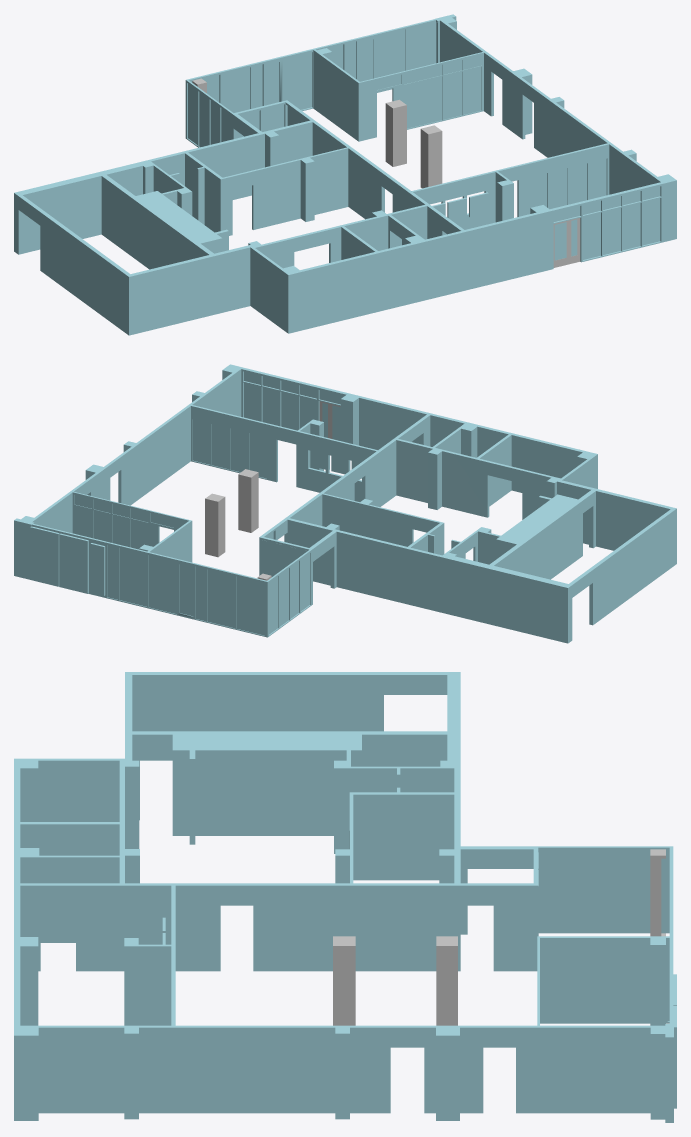
The model's file is df_glb.glb.
The picture shows the model from 3 angles, top to bottom: view 1: azimuth 30°, elevation 25°; view 2: azimuth 150°, elevation 25°; view 3: azimuth 270°, elevation 25°; orthographic projection. The views are drawn at different scales.
Parts seen in each view (by area): view 1: Body101, Body98, kolonna, Body100, Body93, Body94, Body76, Body74, Body75, Body58, Body55, Body53 (+6 smaller); view 2: Body101, Body98, Body93, Body94, Body100, kolonna, Body68, Body67, Body69, Body66, Body53, Body55 (+6 smaller); view 3: Body101, Body99, Body100, kolonna, Body12.
Part boxes in pixels (bbox=[...]): Body101: bbox=[14, 14, 676, 335]; Body98: bbox=[191, 41, 355, 112]; kolonna: bbox=[385, 99, 406, 166]; Body100: bbox=[420, 125, 442, 188]; Body93: bbox=[406, 22, 436, 70]; Body94: bbox=[376, 29, 405, 77]; Body76: bbox=[423, 76, 442, 124]; Body74: bbox=[463, 67, 481, 114]; Body75: bbox=[443, 71, 461, 119]; Body58: bbox=[642, 198, 660, 245]; Body55: bbox=[622, 203, 640, 250]; Body53: bbox=[603, 208, 620, 254]; Body101: bbox=[14, 364, 676, 643]; Body98: bbox=[107, 545, 264, 635]; Body93: bbox=[30, 526, 59, 586]; Body94: bbox=[59, 533, 88, 593]; Body100: bbox=[238, 469, 258, 532]; kolonna: bbox=[205, 493, 225, 557]; Body68: bbox=[211, 424, 229, 469]; Body67: bbox=[193, 419, 210, 464]; Body69: bbox=[230, 428, 247, 472]; Body66: bbox=[249, 433, 266, 478]; Body53: bbox=[281, 392, 298, 430]; Body55: bbox=[262, 387, 279, 425]; Body101: bbox=[14, 672, 676, 1122]; Body99: bbox=[497, 888, 533, 968]; Body100: bbox=[333, 936, 355, 1025]; kolonna: bbox=[436, 936, 457, 1025]; Body12: bbox=[650, 849, 665, 936].
Size of the model in its own units: 27.43 by 3 by 21.05.
